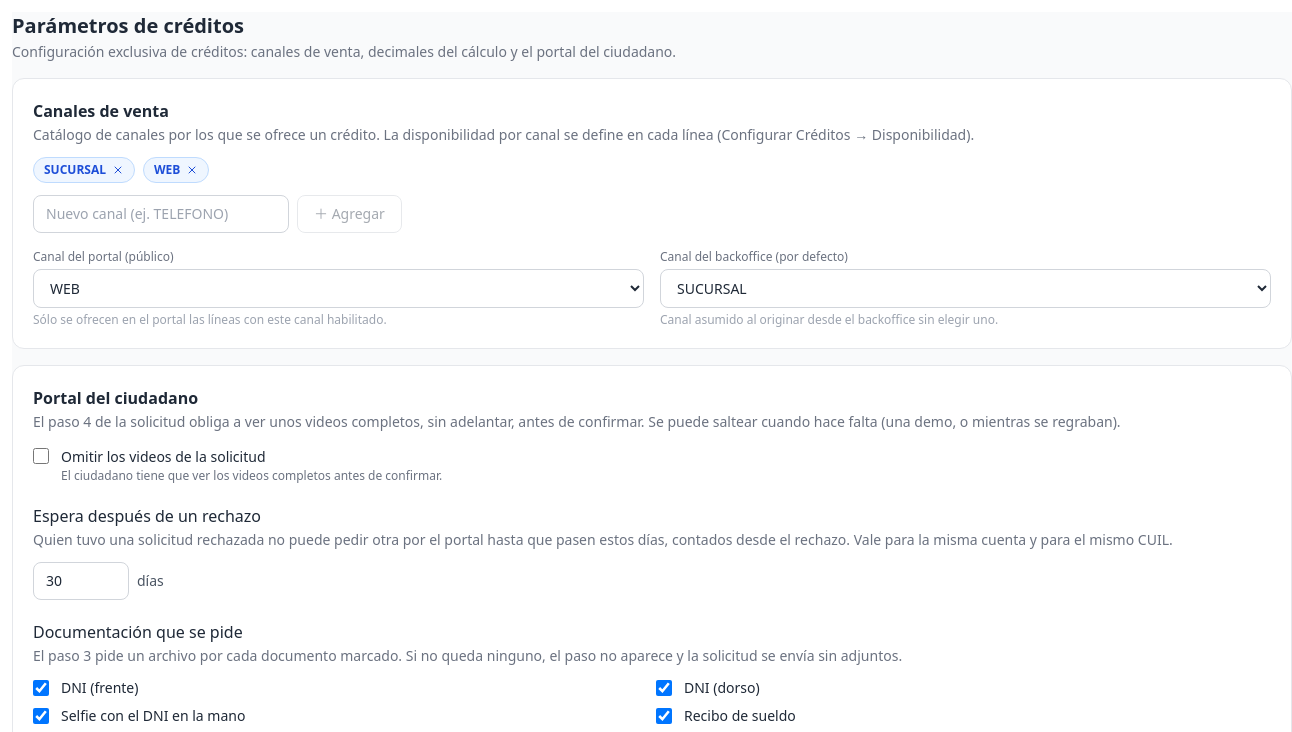
Test: Parámetros de créditos › agrega un canal nuevo, normalizado en mayúsculas
expect the button named "Quitar SUCURSAL" is shown: met, box x1=112 y1=164 x2=124 y2=176
Type "telefono" into the field labelled "Nuevo canal". click: (161, 214)
box: x1=33 y1=195 x2=289 y2=233
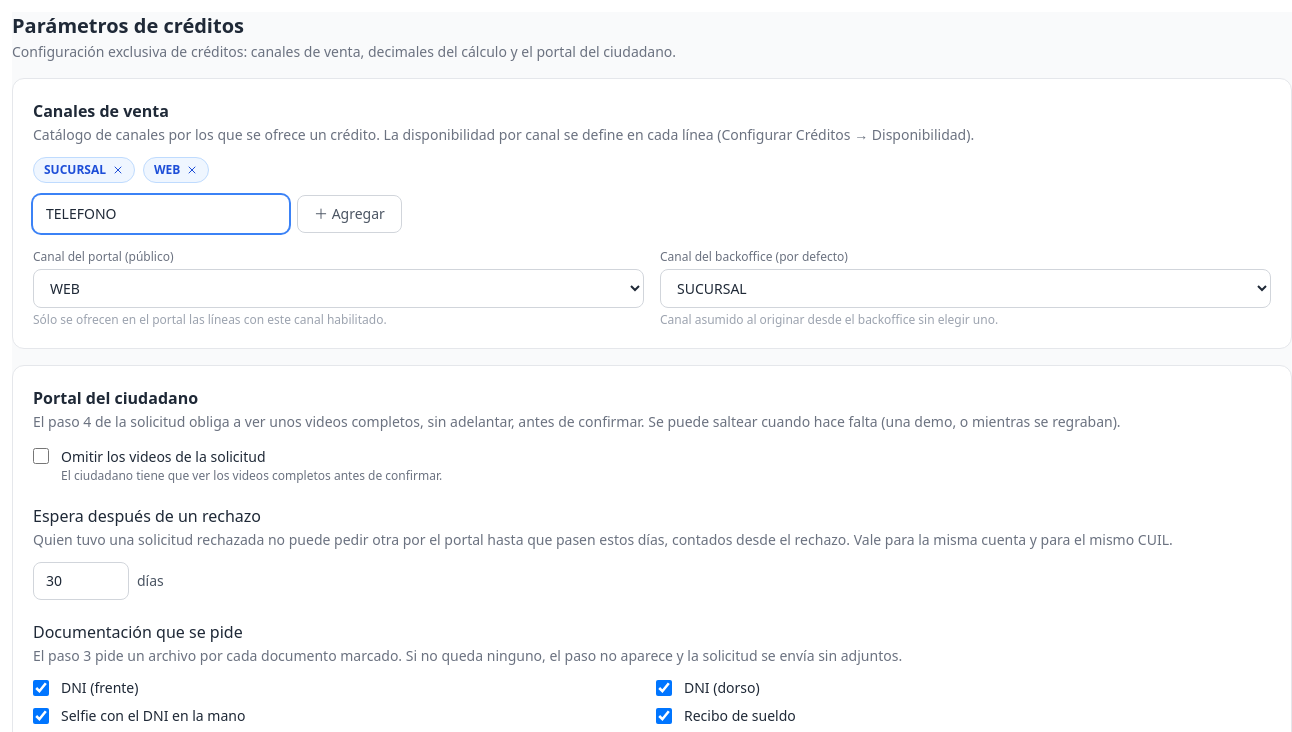
Click the button "＋ Agregar". click: (349, 214)
box: x1=297 y1=195 x2=402 y2=233
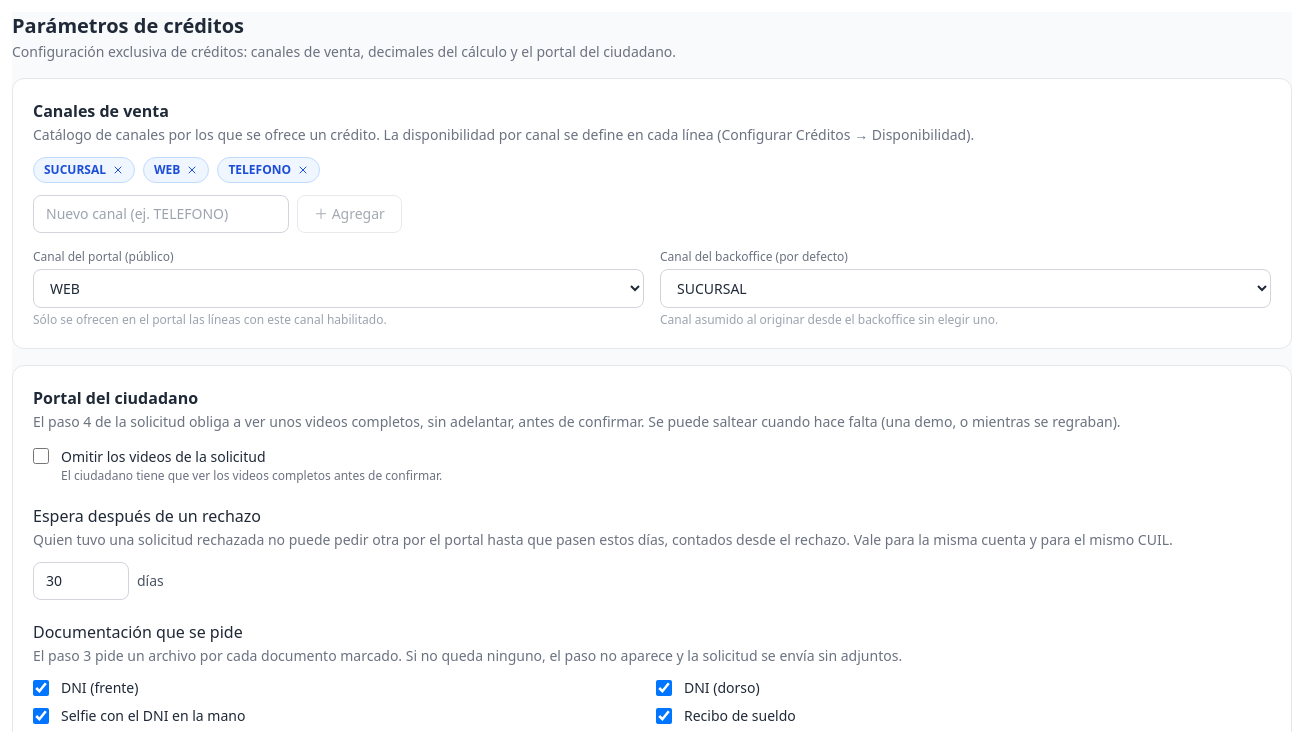
expect the button named "Quitar TELEFONO" is shown: met, box x1=297 y1=164 x2=309 y2=176
